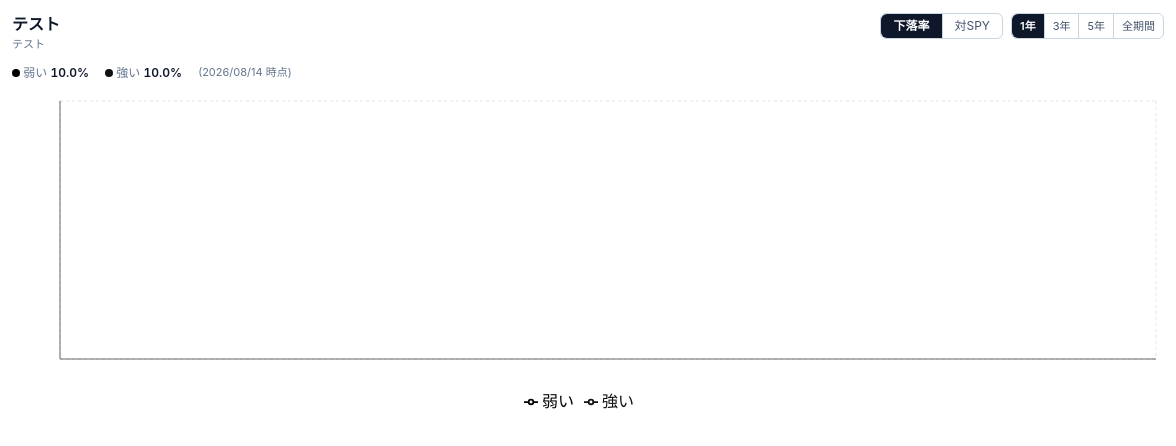
Test: 下落率チャート (#128) › 対SPYに切り替えると相対強度順に並び替わる (#274)
Click the button "対SPY": (972, 26) [942,14,1002,38]
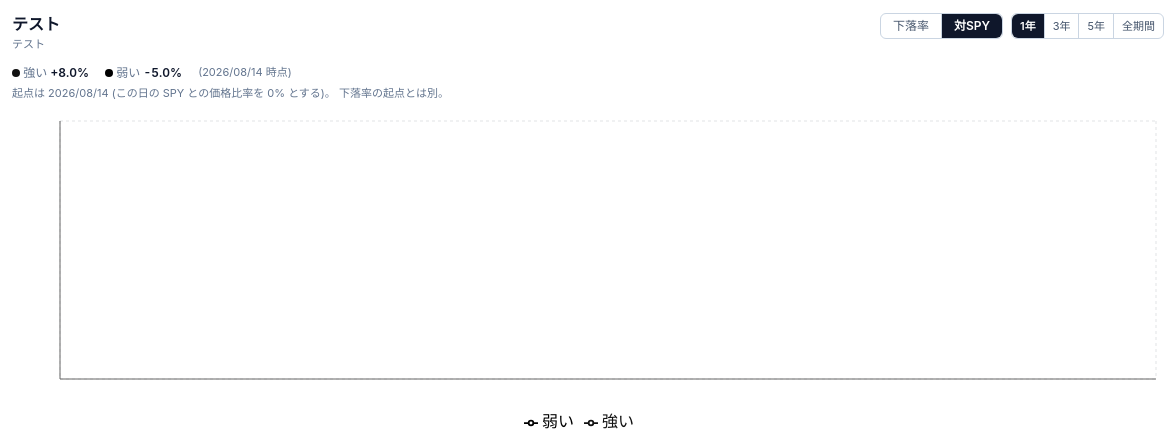
Expected: the text "+8.0%" is shown, [50,64,89,80]
Expected: the text "-5.0%" is shown, [144,64,182,80]
